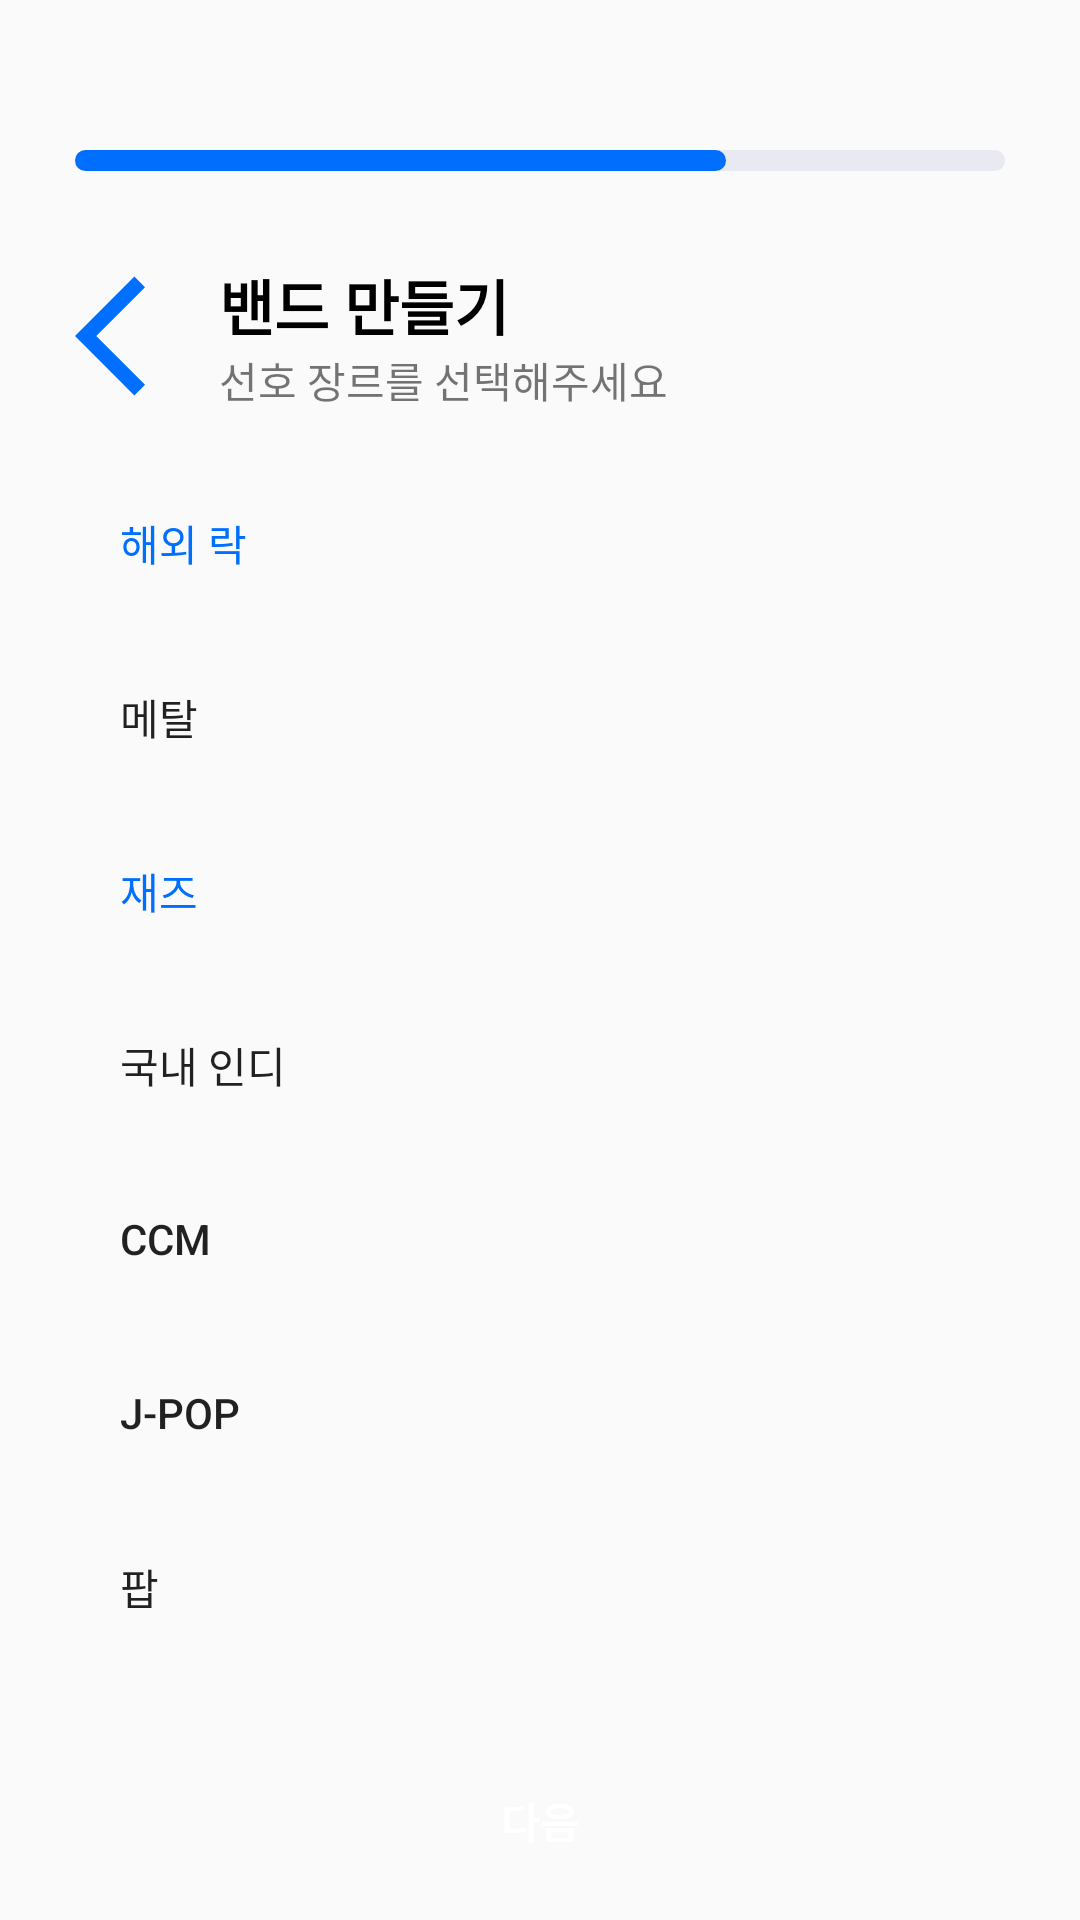

Icon click points for this 1080px x 1920px phone screenshot, format point (x, y):
arrow back: point (110, 336)
